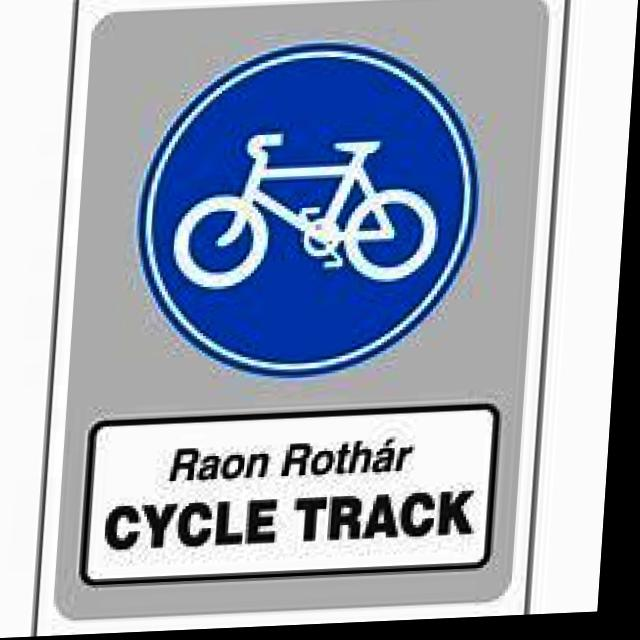COMPULSARY_CYCLE_TRACK: (136, 45, 492, 388)
